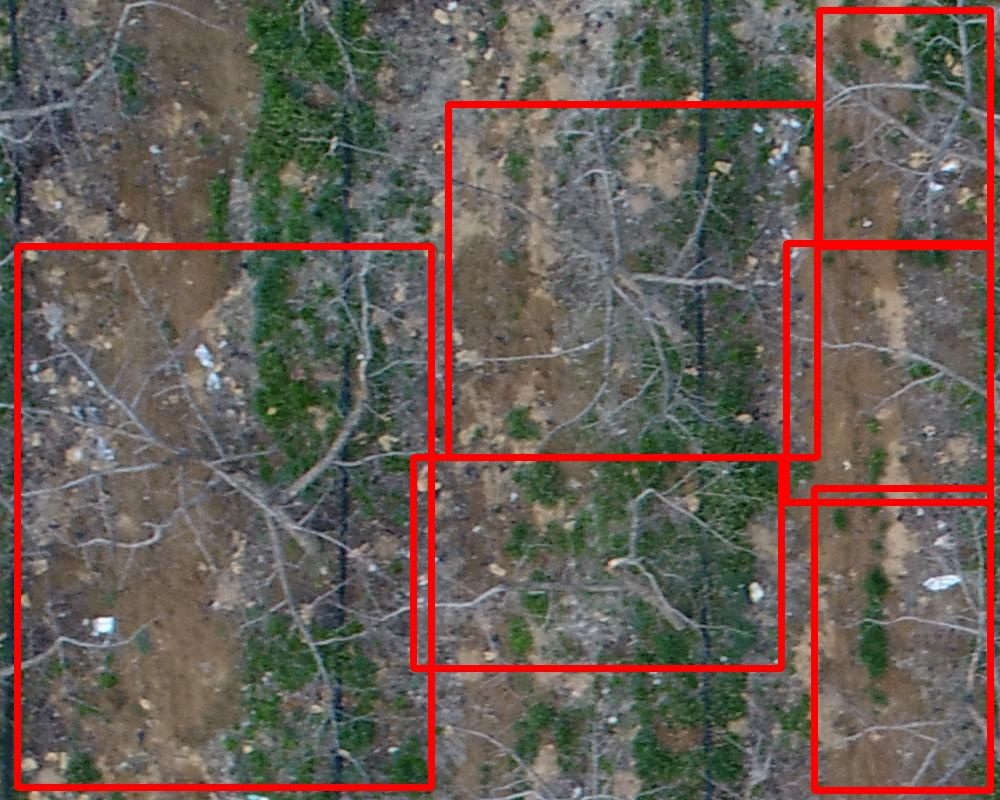apple: (17, 246, 431, 787), (448, 104, 817, 457), (413, 457, 781, 668), (814, 488, 990, 790), (786, 243, 990, 502), (819, 10, 990, 246)
